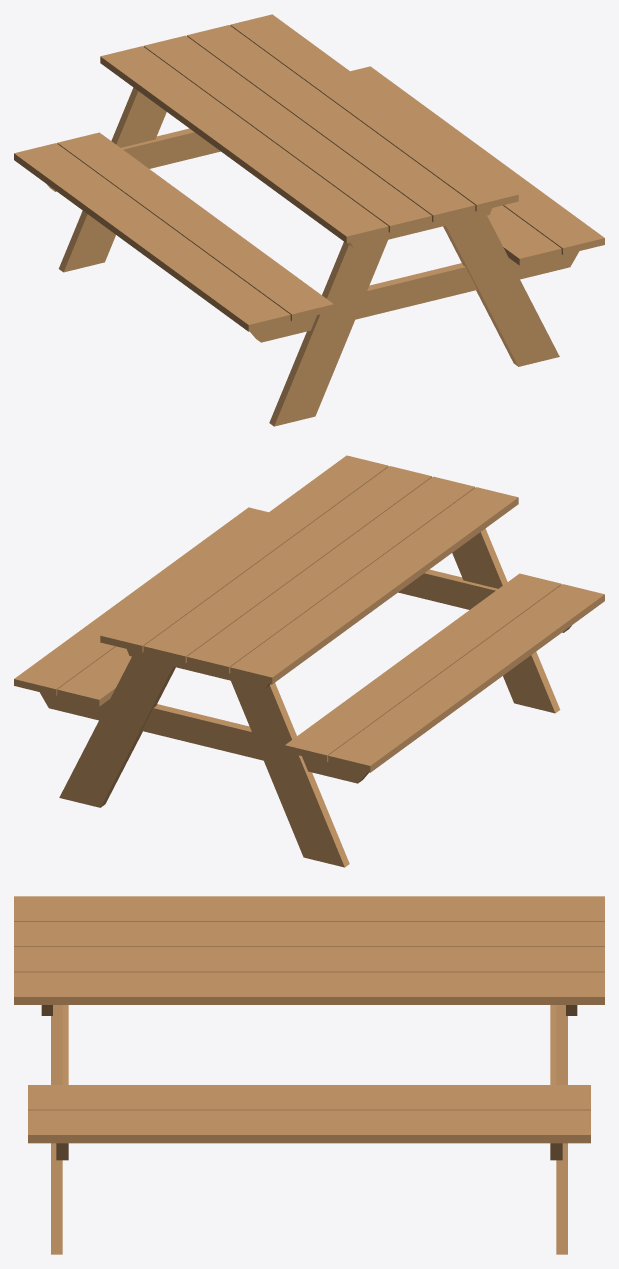
Rendered from PicnicTable.fbx.
3 renders of one model, top to bottom at view 1: azimuth 30°, elevation 25°; view 2: azimuth 150°, elevation 25°; view 3: azimuth 270°, elevation 25°, orthographic. The views are drawn at different scales.
Visible parts, largest first — view 1: PicnicTable; view 2: PicnicTable; view 3: PicnicTable.
Part boxes in pixels (x1,y1,x2,y2): PicnicTable: [14, 14, 604, 426]; PicnicTable: [14, 455, 604, 867]; PicnicTable: [14, 896, 604, 1254].
Size of the model in its own units: 89.32 by 44.85 by 107.
